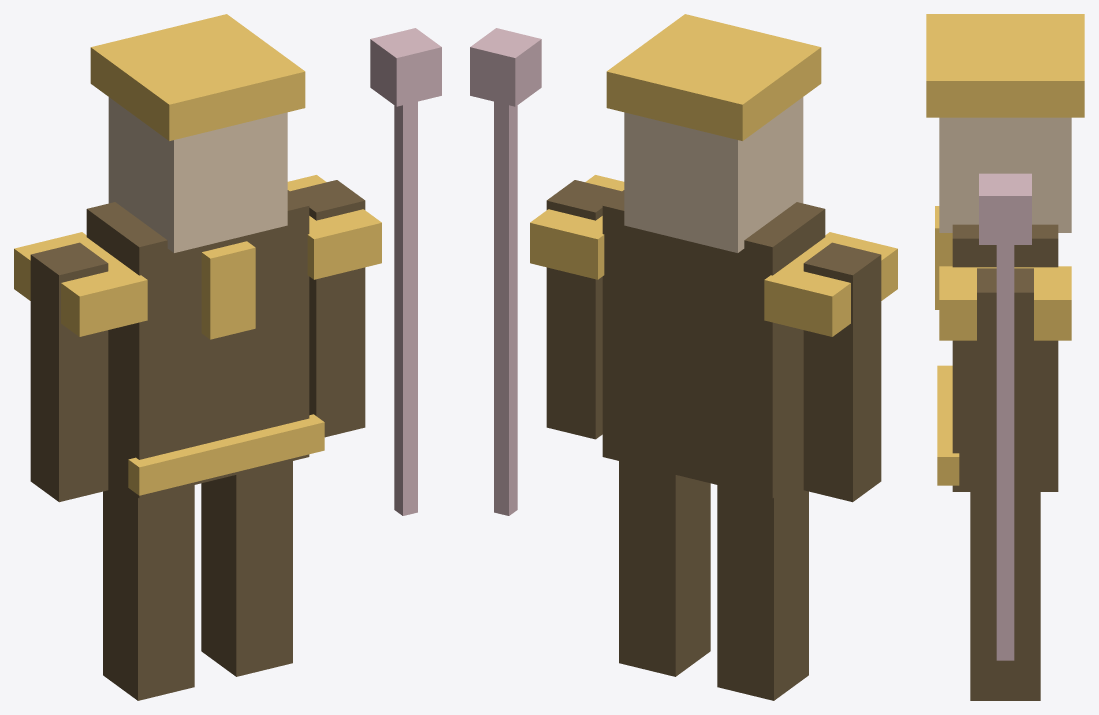
File: 02_lio_cinderholt_watcher_near_bridge.glb
The picture shows the model from 3 angles, left to right: view 1: azimuth 30°, elevation 25°; view 2: azimuth 150°, elevation 25°; view 3: azimuth 270°, elevation 25°; orthographic projection.
Parts seen in each view (by area): view 1: Lio Cinderholt, Watcher near Bridge; view 2: Lio Cinderholt, Watcher near Bridge; view 3: Lio Cinderholt, Watcher near Bridge.
Part boxes in pixels (bbox=[...]): Lio Cinderholt, Watcher near Bridge: bbox=[14, 14, 441, 700]; Lio Cinderholt, Watcher near Bridge: bbox=[470, 14, 897, 700]; Lio Cinderholt, Watcher near Bridge: bbox=[926, 14, 1084, 700].
Size of the model in its own units: 0.9527 by 1.45 by 0.3379.
